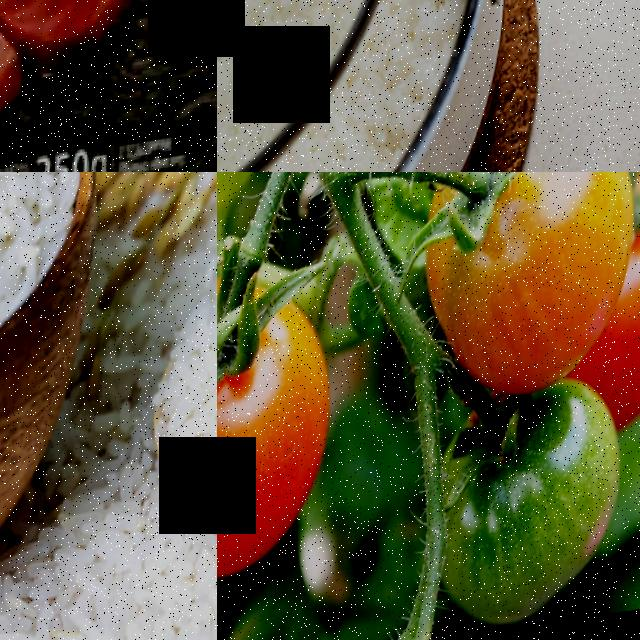tomato: (410, 172, 640, 416), (217, 248, 361, 604)
tuna: (0, 0, 164, 75)
white rice: (217, 0, 389, 172), (0, 510, 217, 640), (0, 172, 77, 321), (164, 277, 217, 485)
